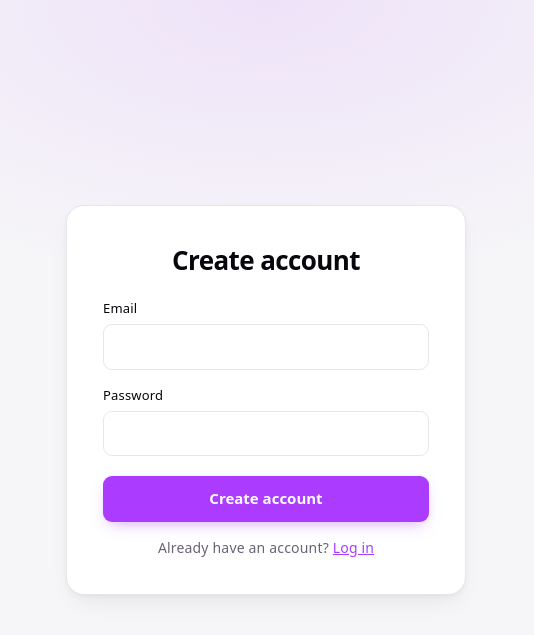
it: Register › uses a generic message when a non-Error is thrown
Step 1. Type "new@user.io" into the field labelled "Email" → (266, 347), box [103,324,429,370]
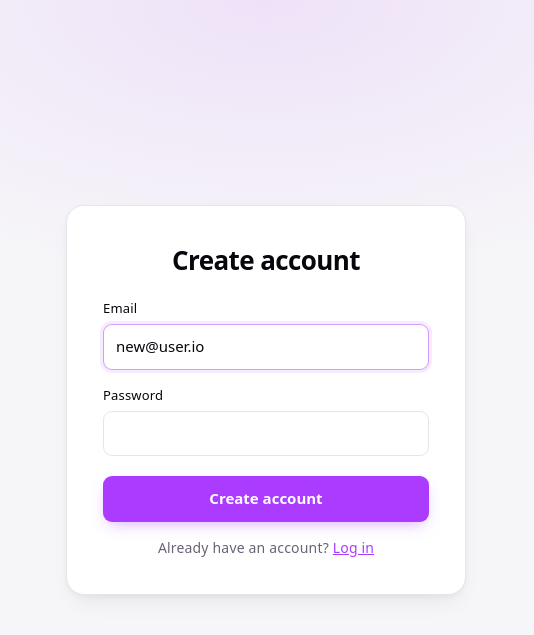
Step 2. Type "longenough1" into the password field labelled "Password" → (266, 434), box [103,411,429,456]
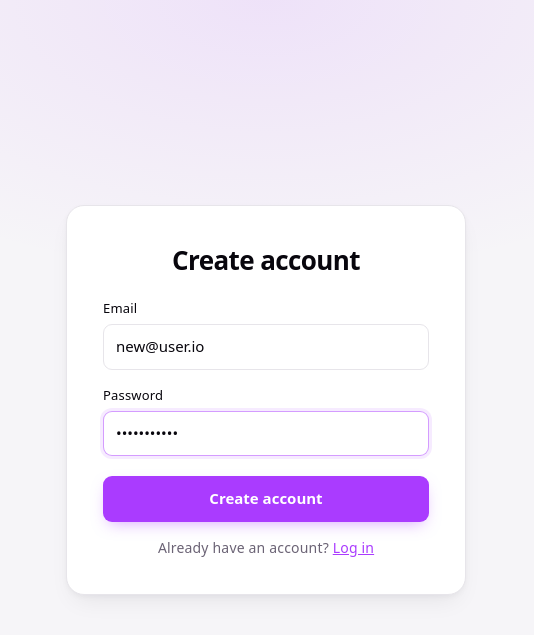
Step 3. Click the button "Create account" → (266, 499), box [103,476,429,522]
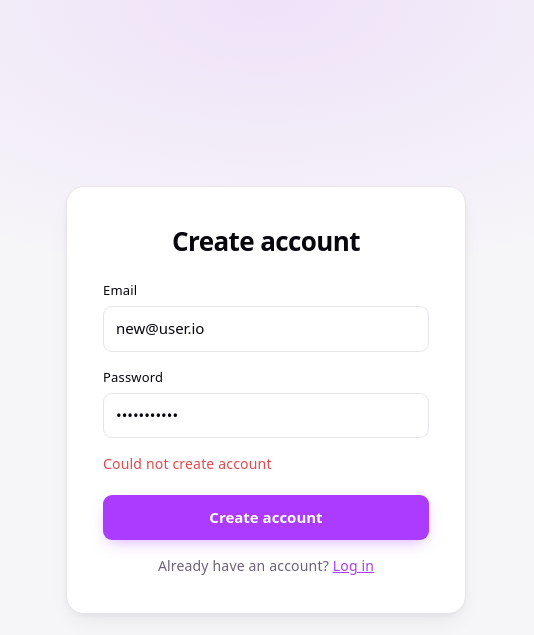
Expected: the text "Could not create account" is shown, [103,454,272,473]
